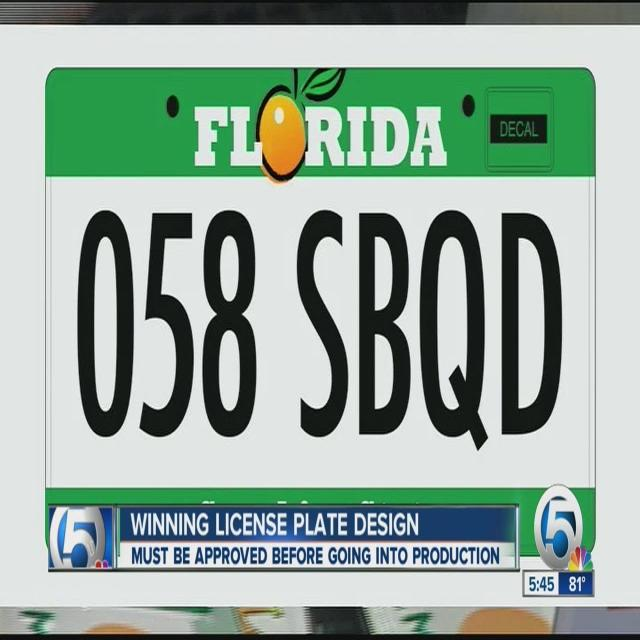placa: (52, 181, 594, 459)
